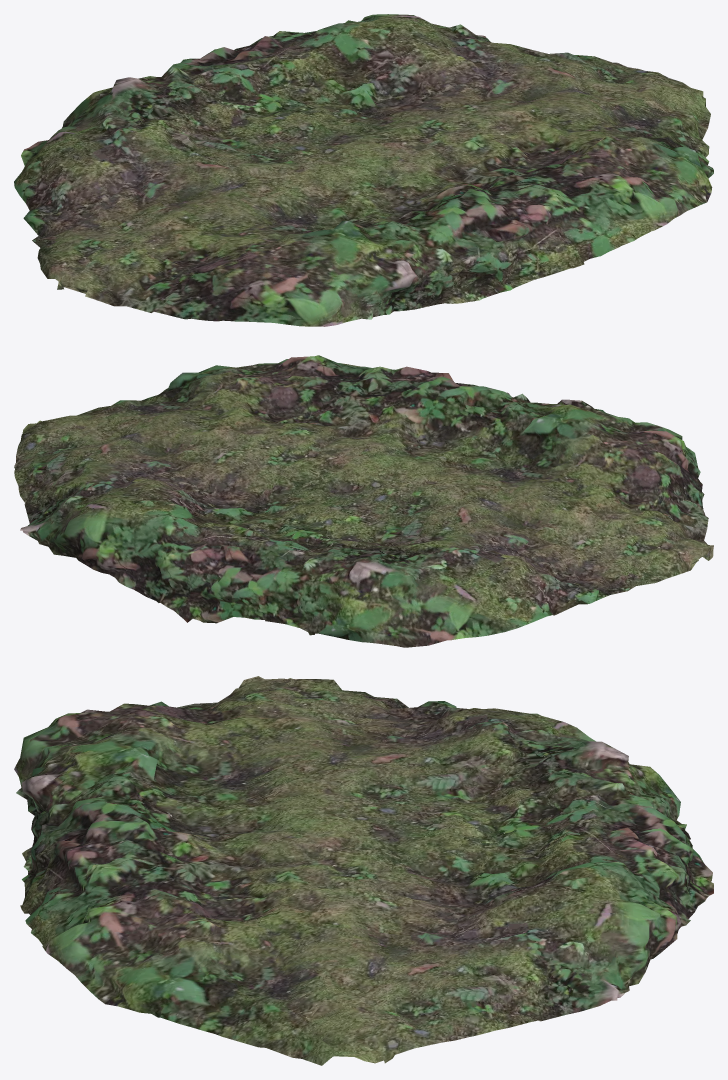
Rendered from moss_ground_002.glb.
3 views of the same model, one above another, from view 1: azimuth 30°, elevation 25°; view 2: azimuth 150°, elevation 25°; view 3: azimuth 270°, elevation 25° (orthographic). The views are drawn at different scales.
Visible parts, largest first — view 1: moss ground.002; view 2: moss ground.002; view 3: moss ground.002.
Part boxes in pixels (x1=…): moss ground.002: x1=14, y1=14, x2=713, y2=326; moss ground.002: x1=14, y1=355, x2=713, y2=647; moss ground.002: x1=14, y1=676, x2=713, y2=1065.
Size of the model in its own units: 5.13 by 0.4588 by 3.98.
Materials: 1 (1 with a texture image).
